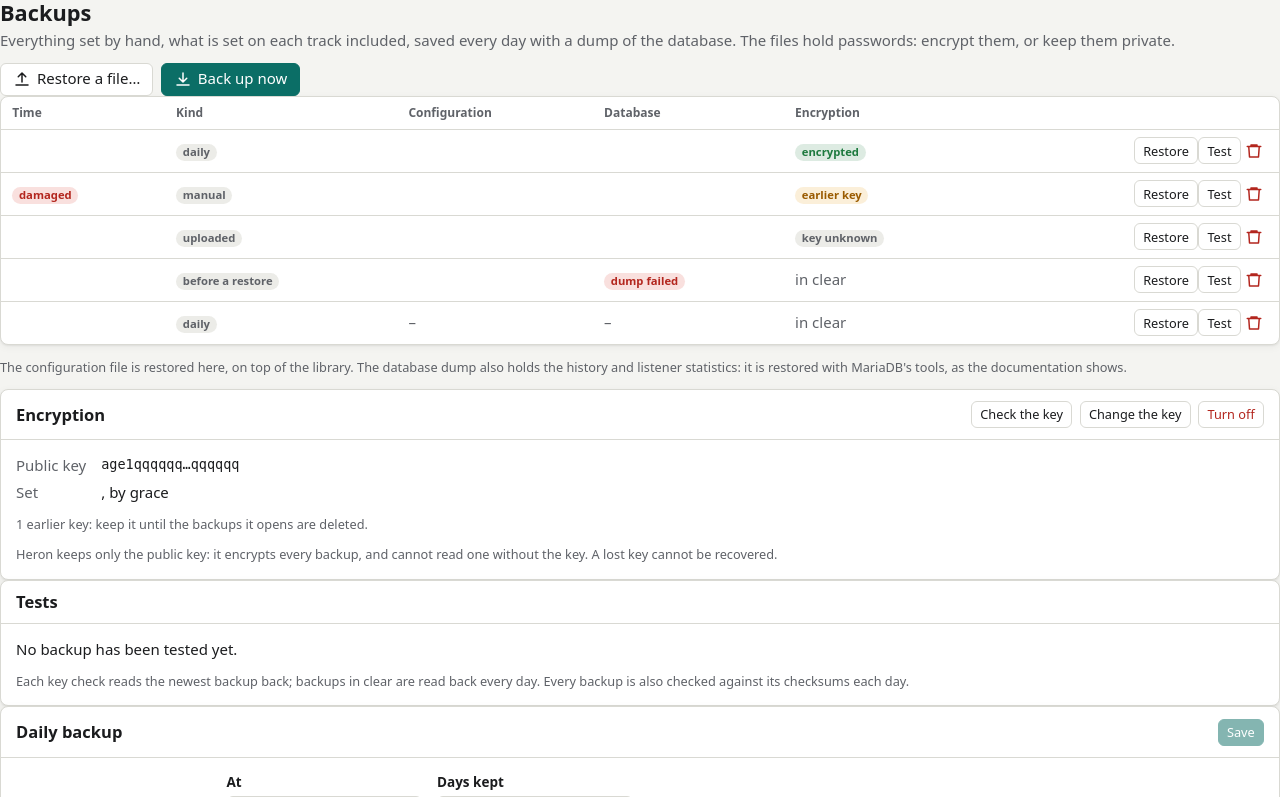
Test case: Backups › deletes a backup once asked
This screenshot has width=1280, height=797.
Click the button named "Delete the backup" in the row of "encrypted" at (1254, 151), box left=1241, top=138, right=1268, bottom=164
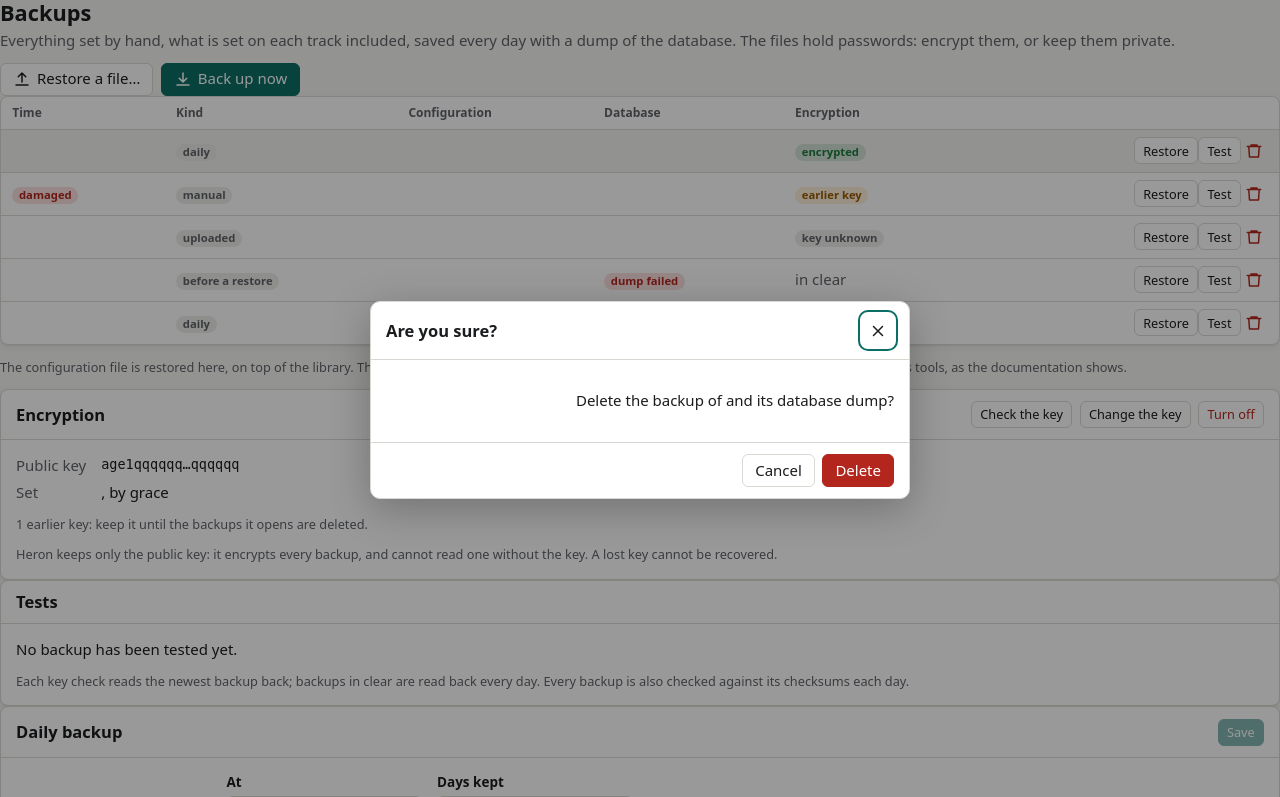
Click the button "Delete" at (858, 471), box left=822, top=454, right=894, bottom=487
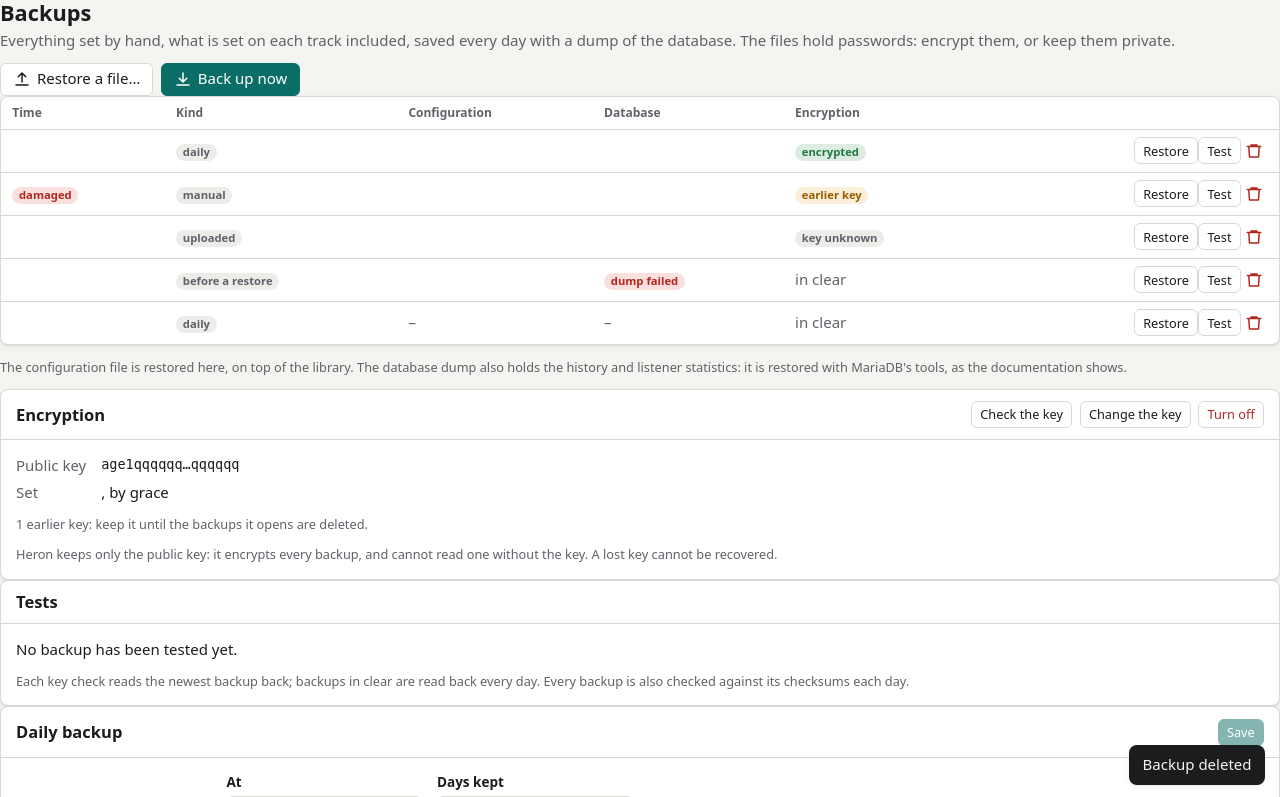
Result: the text "Backup deleted" is shown at left=1129, top=745, right=1265, bottom=785
